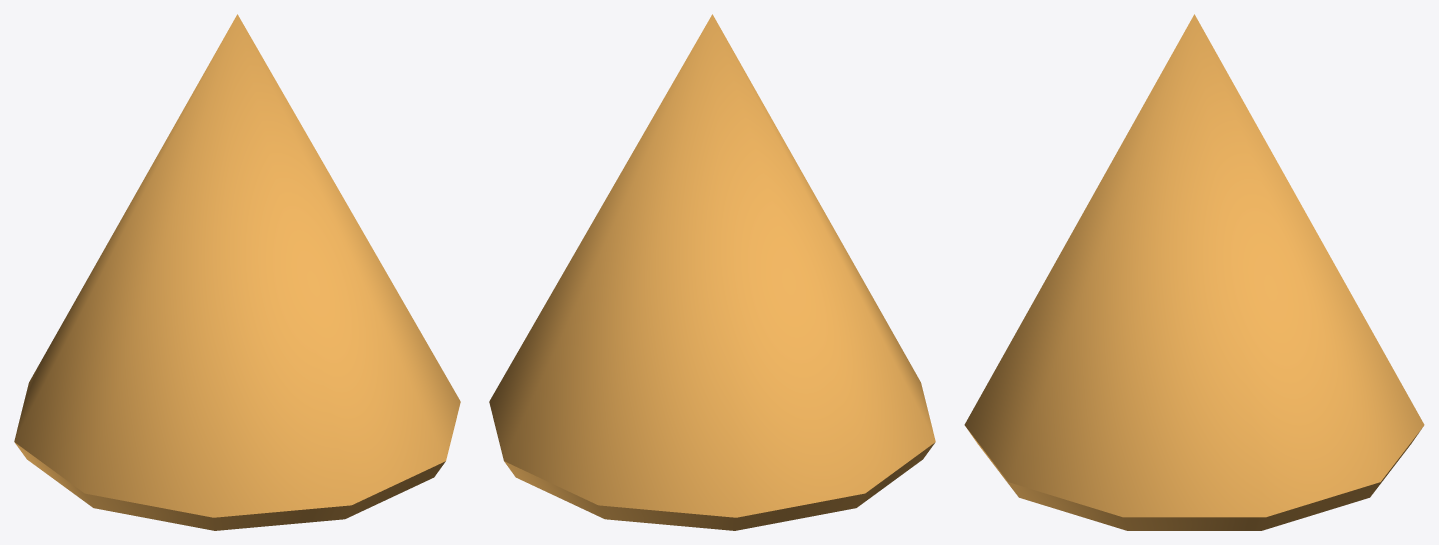
3 renders of one model, left to right at view 1: azimuth 30°, elevation 25°; view 2: azimuth 150°, elevation 25°; view 3: azimuth 270°, elevation 25°, orthographic.
Visible parts, largest first — view 1: Cone_03; view 2: Cone_03; view 3: Cone_03.
Part boxes in pixels (x1,y1,x2,y2): Cone_03: [14, 14, 460, 530]; Cone_03: [489, 14, 935, 530]; Cone_03: [964, 14, 1424, 530].
Bounding box in the file's own units: 287 × 311 × 302.
